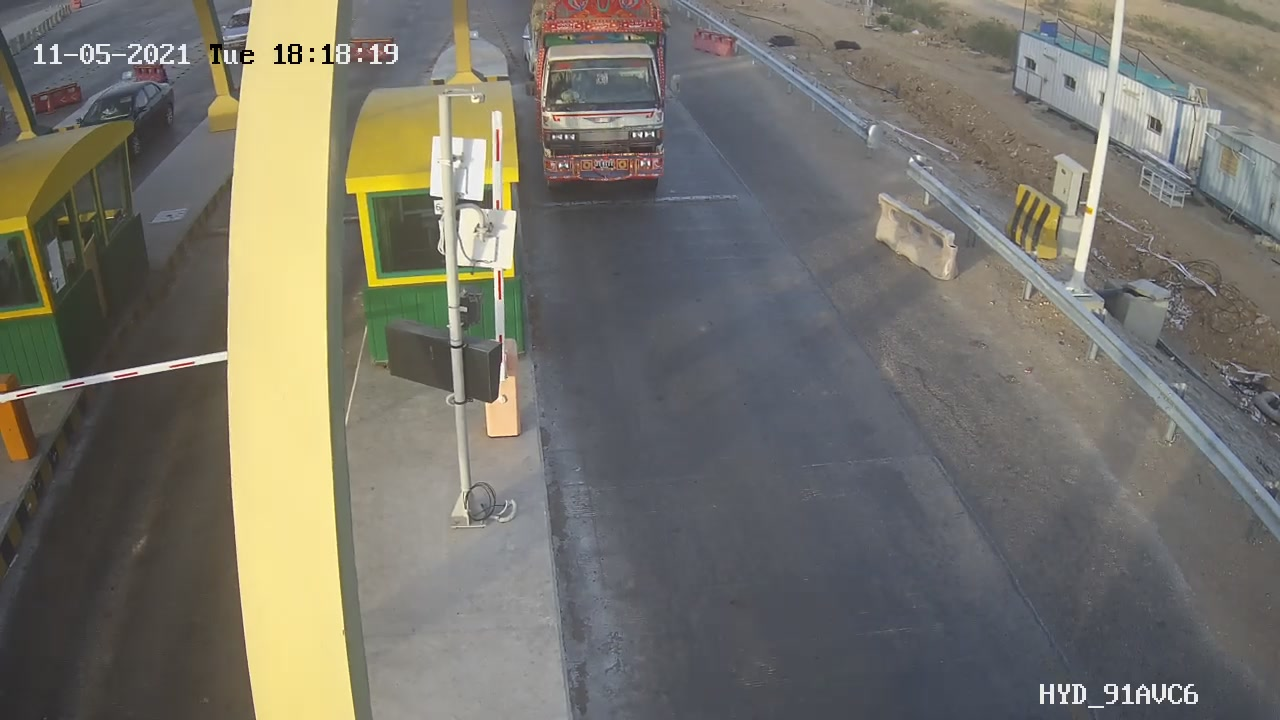F5: (524, 10, 697, 194)
